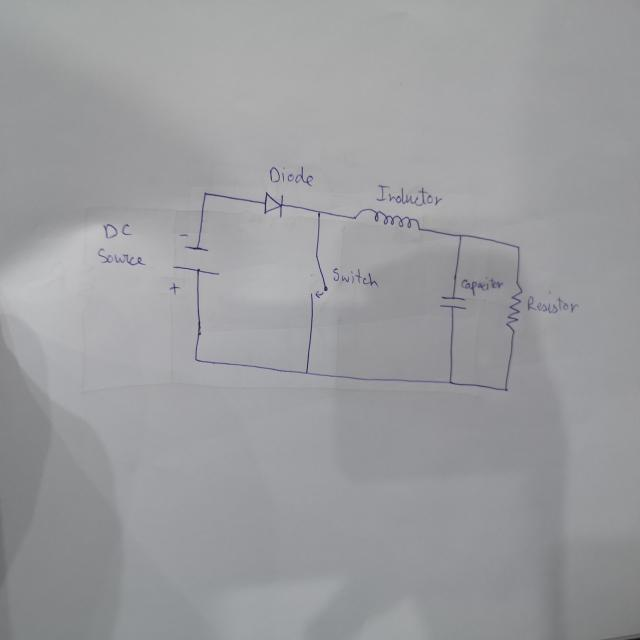capacitor: (438, 293, 468, 311)
diode: (260, 189, 286, 217)
inductor: (351, 206, 422, 234)
junction: (199, 187, 212, 202), (312, 207, 324, 219), (191, 353, 201, 364), (445, 377, 455, 388), (514, 243, 522, 252), (302, 367, 309, 377), (502, 384, 509, 394), (457, 230, 464, 240)
resistor: (504, 278, 524, 334)
source: (168, 231, 222, 297)
switch: (307, 253, 330, 300)
text: (376, 183, 442, 208), (526, 287, 580, 316), (266, 164, 314, 187), (332, 265, 378, 288), (95, 247, 146, 266), (459, 277, 504, 295), (100, 221, 136, 240)
